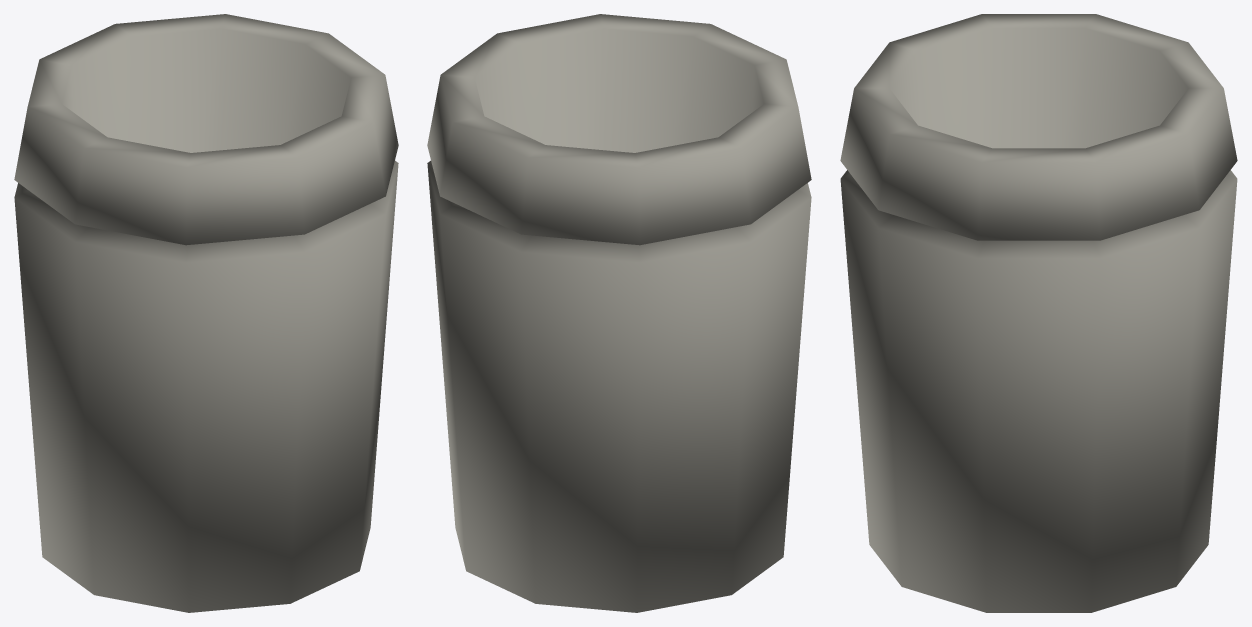
Rendered from rpgpp_ag_vase_01.fbx.
3 renders of one model, left to right at view 1: azimuth 30°, elevation 25°; view 2: azimuth 150°, elevation 25°; view 3: azimuth 270°, elevation 25°, orthographic.
Parts seen in each view (by area): view 1: rpgpp_ag_vase_01; view 2: rpgpp_ag_vase_01; view 3: rpgpp_ag_vase_01.
Boxes of the visible parts, <box> form: rpgpp_ag_vase_01: <box>14,14,398,612</box>; rpgpp_ag_vase_01: <box>427,14,811,612</box>; rpgpp_ag_vase_01: <box>840,14,1237,612</box>.
Size of the model in its own units: 0.3741 by 0.4988 by 0.3934.
